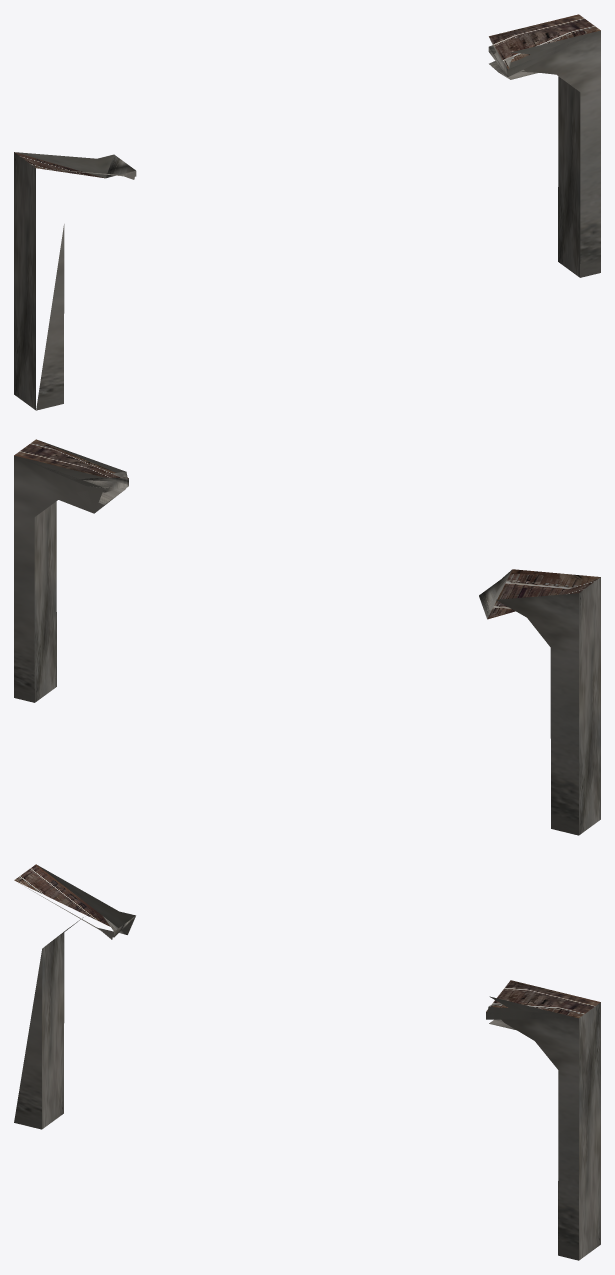
The model's file is viaductdest.gltf.
The picture shows the model from 3 angles, top to bottom: view 1: azimuth 30°, elevation 25°; view 2: azimuth 150°, elevation 25°; view 3: azimuth 330°, elevation 25°; orthographic projection.
Parts seen in each view (by area): view 1: viaductdest_atomic0; view 2: viaductdest_atomic0; view 3: viaductdest_atomic0.
Part boxes in pixels (bbox=[...]): viaductdest_atomic0: bbox=[14, 14, 600, 410]; viaductdest_atomic0: bbox=[14, 439, 600, 835]; viaductdest_atomic0: bbox=[14, 864, 600, 1260].
Bounding box in the file's own units: 227 × 93.22 × 15.39.
Materials: 2 (2 with a texture image).
